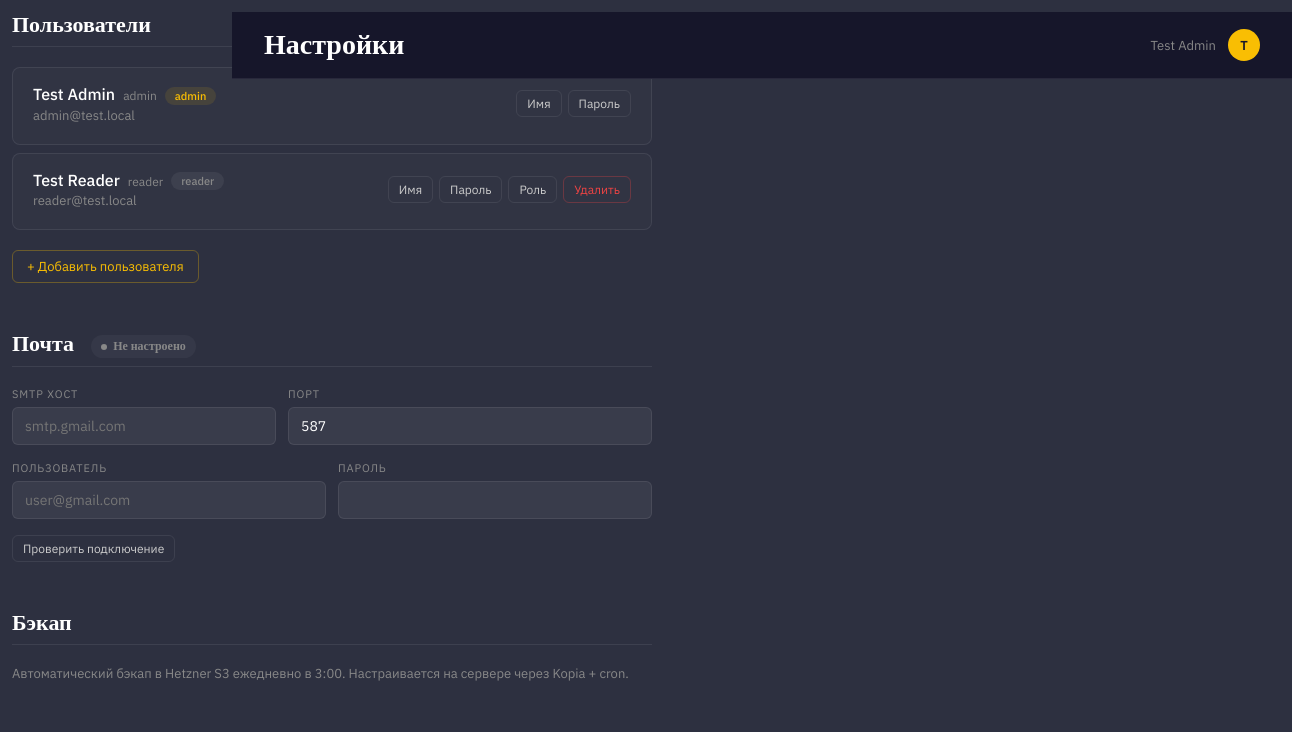
Scenario: AdminPage › Change role › shows Роль button for non-self user with current role preselected
Check: the text "Test Reader" is shown, box [33,170,120,190]
Click the button "Роль" at (533, 189), box [508,176,557,203]
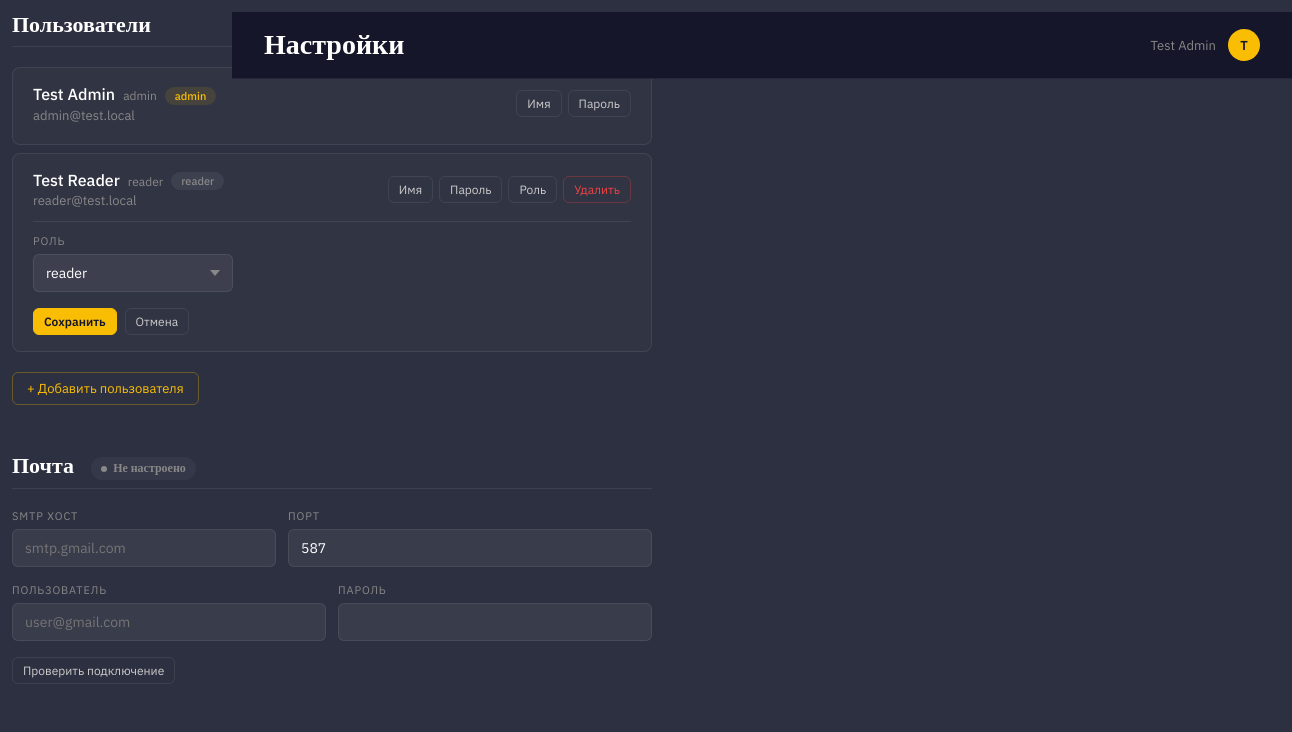
Check: the dropdown shows "reader", box [33,254,233,292]
